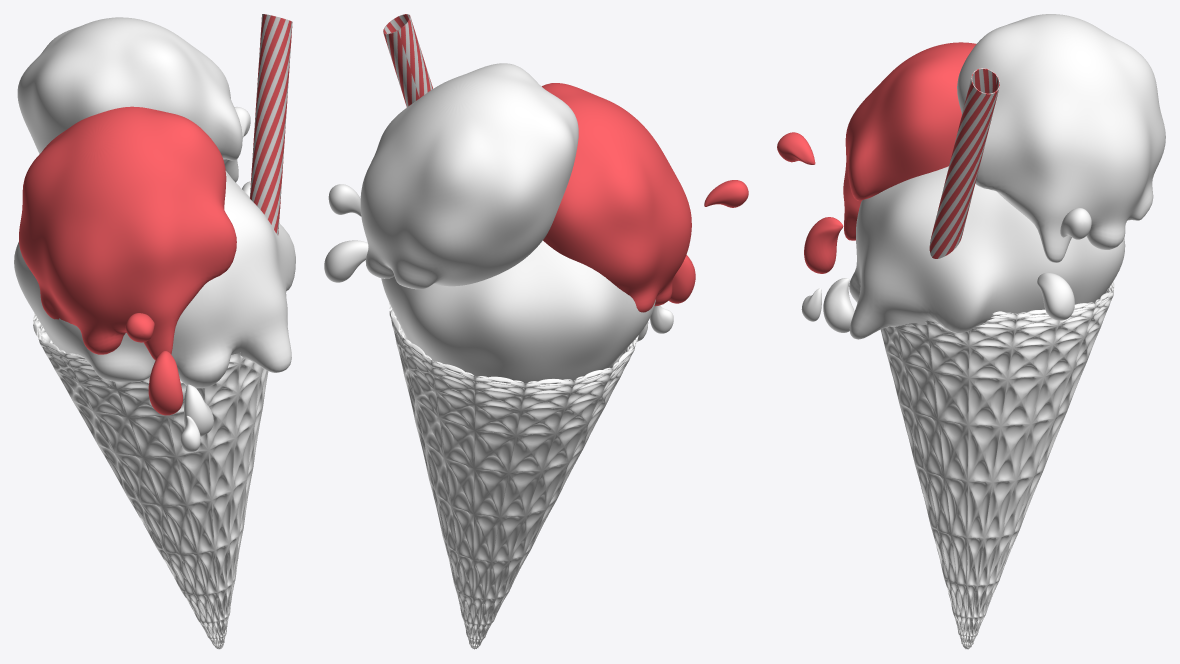
File: ice-cream-3d-animated-icon-508436015078.glb
3 renders of one model, left to right at view 1: azimuth 30°, elevation 25°; view 2: azimuth 150°, elevation 25°; view 3: azimuth 270°, elevation 25°, orthographic. The views are drawn at different scales.
Parts seen in each view (by area): view 1: Sphere.001, Cube, Sphere.002, Sphere, Cylinder, Sphere.010, Sphere.007, Sphere.011, Sphere.008; view 2: Sphere.002, Cube, Sphere, Sphere.001, Cylinder, Sphere.013, Sphere.011, Sphere.012, Sphere.010; view 3: Cube, Sphere.002, Sphere, Sphere.001, Cylinder, Sphere.010, Sphere.013, Sphere.007, Sphere.011, Sphere.012.
Boxes of the visible parts, x1,y1,x2,y2 form: Sphere.001: [19, 106, 236, 360]; Cube: [33, 313, 268, 649]; Sphere.002: [17, 17, 242, 182]; Sphere: [14, 171, 295, 388]; Cylinder: [250, 14, 292, 235]; Sphere.010: [148, 351, 182, 415]; Sphere.007: [183, 384, 213, 436]; Sphere.011: [125, 313, 154, 342]; Sphere.008: [180, 415, 200, 452]; Sphere.002: [360, 63, 578, 289]; Cube: [389, 303, 638, 649]; Sphere: [381, 240, 655, 382]; Sphere.001: [542, 83, 691, 312]; Cylinder: [383, 14, 432, 107]; Sphere.013: [324, 240, 368, 282]; Sphere.011: [704, 180, 748, 207]; Sphere.012: [328, 184, 361, 216]; Sphere.010: [669, 255, 695, 303]; Cube: [880, 282, 1114, 649]; Sphere.002: [957, 14, 1165, 262]; Sphere: [849, 166, 1125, 339]; Sphere.001: [843, 42, 976, 240]; Cylinder: [929, 68, 999, 258]; Sphere.010: [804, 217, 843, 273]; Sphere.013: [1037, 272, 1074, 320]; Sphere.007: [823, 278, 854, 332]; Sphere.011: [777, 132, 815, 164]; Sphere.012: [1060, 208, 1091, 239].
Bounding box in the file's own units: 3.11 × 6.36 × 3.68.
Materials: 5 (1 with a texture image).
